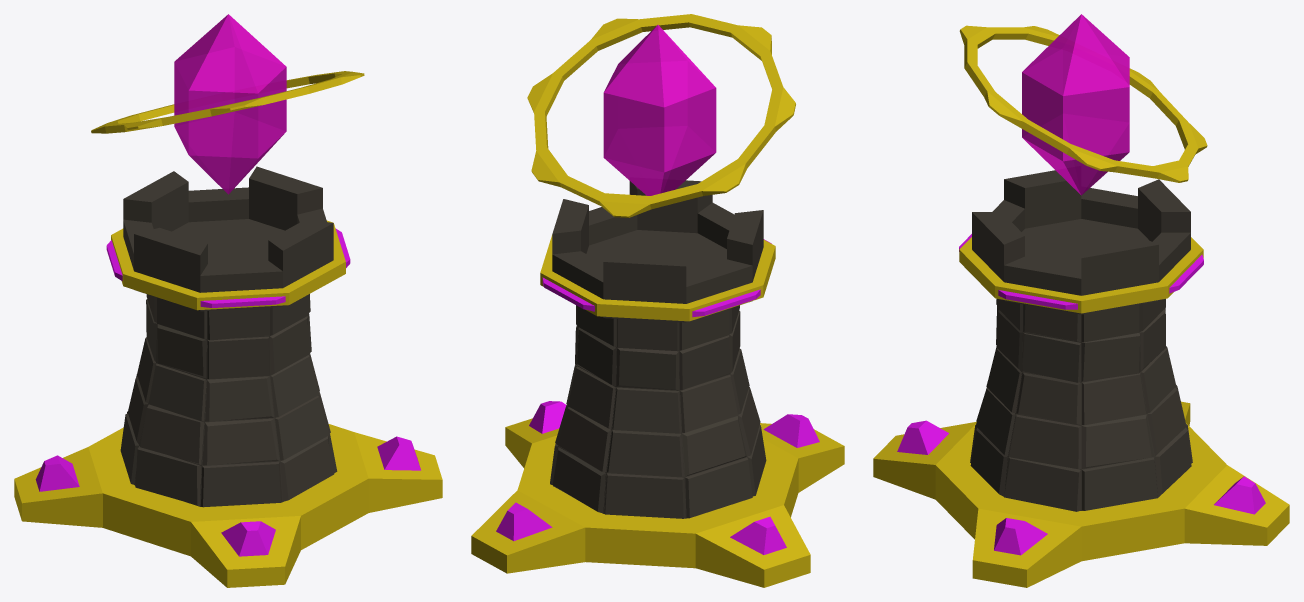
File: Restauracao_Nv5.glb
3 views of the same model, side by side, from view 1: azimuth 30°, elevation 25°; view 2: azimuth 150°, elevation 25°; view 3: azimuth 270°, elevation 25° (orthographic).
Visible parts, largest first — view 1: Cylinder.004, Cristal.004, Turret.004; view 2: Cylinder.004, Cristal.004, Turret.004; view 3: Cylinder.004, Cristal.004, Turret.004.
Part boxes in pixels (left/top/right/bottom): Cylinder.004: left=14, top=166, right=442, bottom=587; Cristal.004: left=174, top=14, right=286, bottom=194; Turret.004: left=91, top=71, right=364, bottom=133; Cylinder.004: left=471, top=180, right=844, bottom=587; Cristal.004: left=603, top=25, right=716, bottom=195; Turret.004: left=527, top=14, right=795, bottom=217; Cylinder.004: left=873, top=170, right=1289, bottom=587; Cristal.004: left=1022, top=14, right=1129, bottom=195; Turret.004: left=959, top=25, right=1207, bottom=182.
Size of the model in its own units: 1.78 by 2.29 by 1.78.
